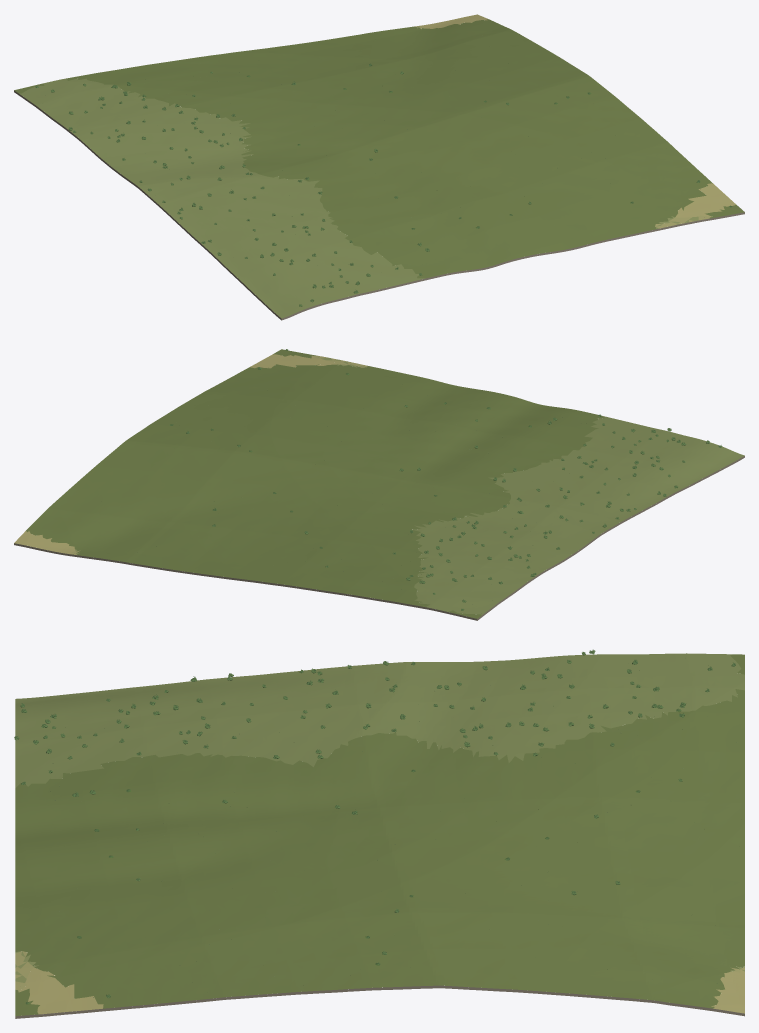
The model's file is parca_+12_-5-yakin.glb.
3 renders of one model, top to bottom at view 1: azimuth 30°, elevation 25°; view 2: azimuth 150°, elevation 25°; view 3: azimuth 270°, elevation 25°, orthographic. The views are drawn at different scales.
Parts seen in each view (by area): view 1: parca_+12_-5_arazi, parca_+12_-5_bitkiler; view 2: parca_+12_-5_arazi, parca_+12_-5_bitkiler; view 3: parca_+12_-5_arazi, parca_+12_-5_bitkiler.
Boxes of the visible parts, x1,y1,x2,y2 form: parca_+12_-5_arazi: [14, 14, 744, 320]; parca_+12_-5_bitkiler: [35, 26, 732, 306]; parca_+12_-5_arazi: [14, 349, 744, 620]; parca_+12_-5_bitkiler: [156, 349, 721, 613]; parca_+12_-5_arazi: [15, 653, 744, 1018]; parca_+12_-5_bitkiler: [14, 649, 741, 1004].
Size of the model in its own units: 1003 by 93.8 by 1002.
